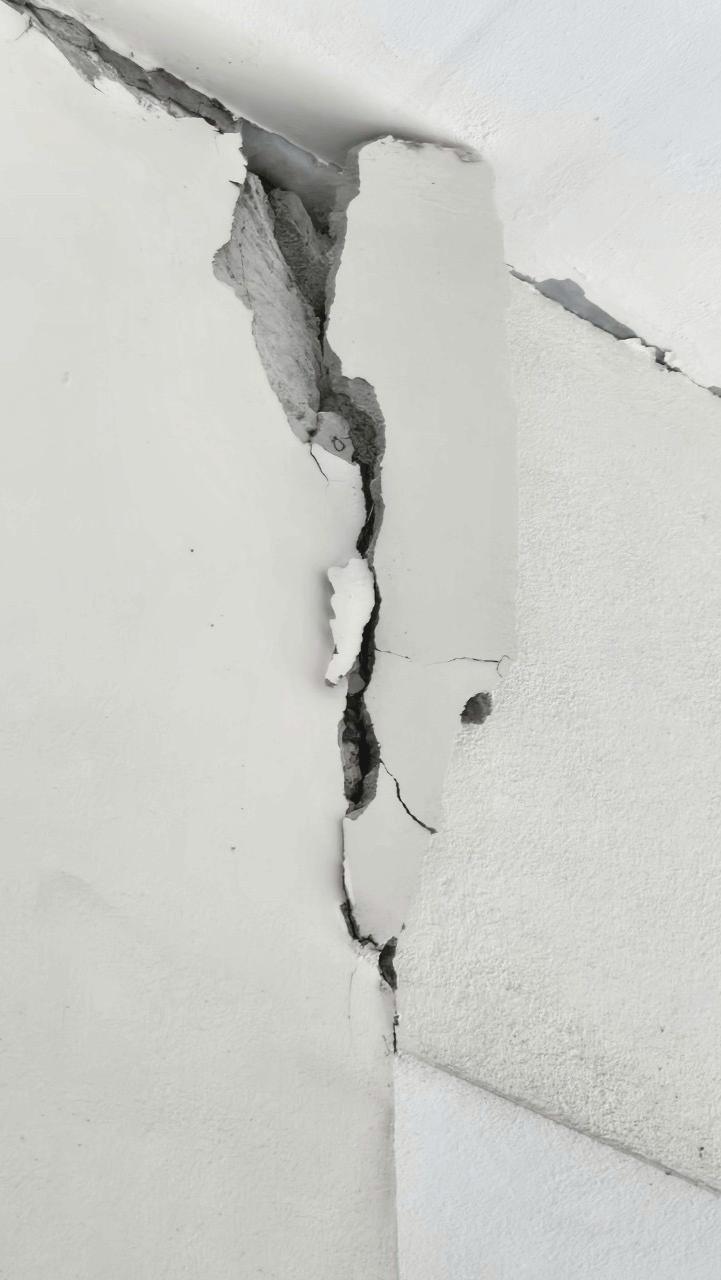High: (9, 1, 719, 1110)
